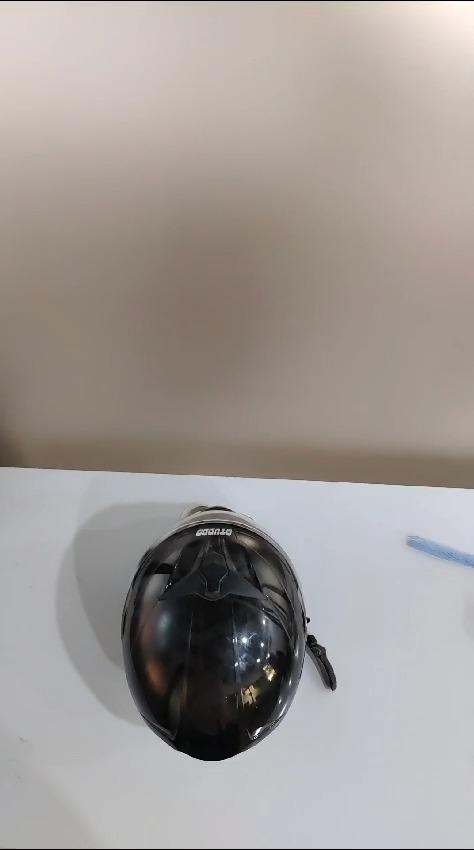Helmet: (91, 504, 325, 763)
